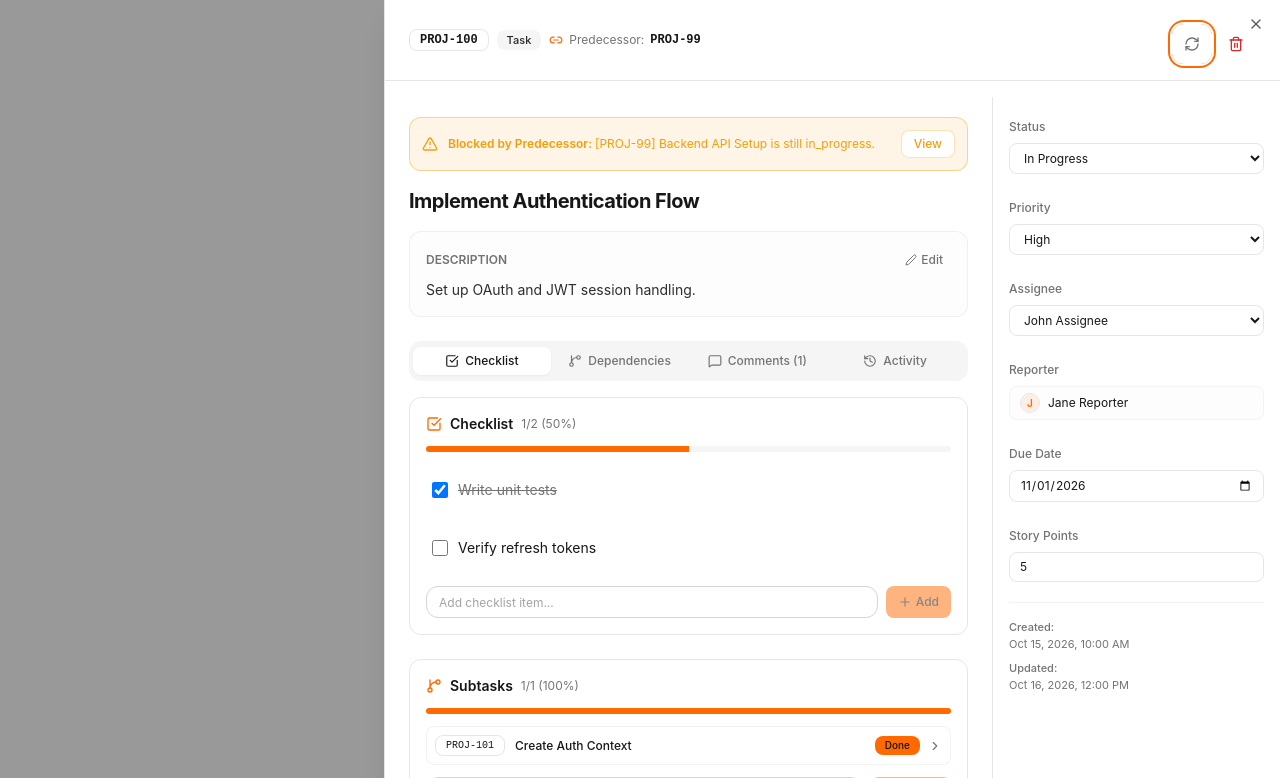
Scenario: TaskDetailSheet › renders blocked predecessor banner and warns on completion
The width and height of the screenshot is (1280, 778).
Expected: the text "PROJ-100" is shown, [409,29,489,51]
Expected: the text "Blocked by Predecessor:" is shown, [448,136,595,151]
Note: Attempting to move to done should trigger confirmation warning
Select "Done" in the dropdown labelled "Status". click: coordinates (1136, 158)
box: [1009,143,1264,174]
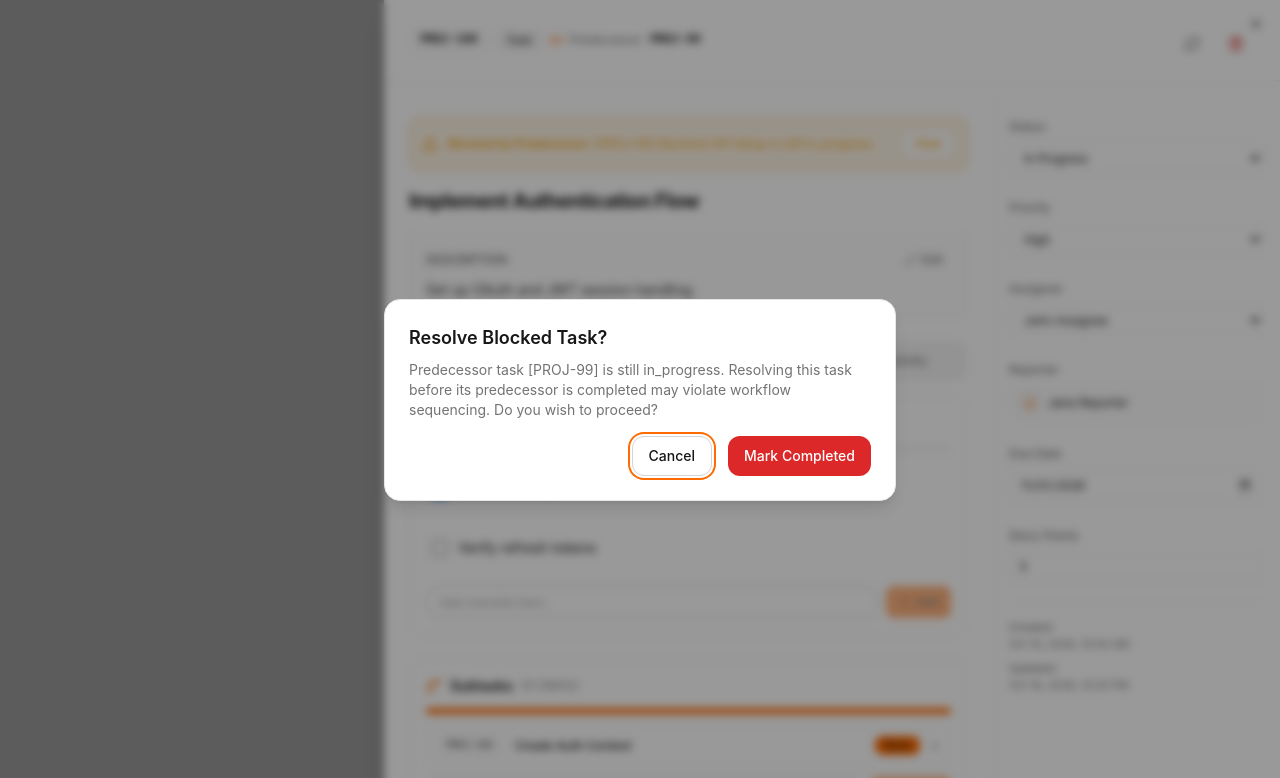
Expected: the heading "Resolve Blocked Task?" is shown, [409,327,607,348]
Expected: the text "Predecessor task [PROJ-99] is still in_progress" is shown, [409,361,852,418]
